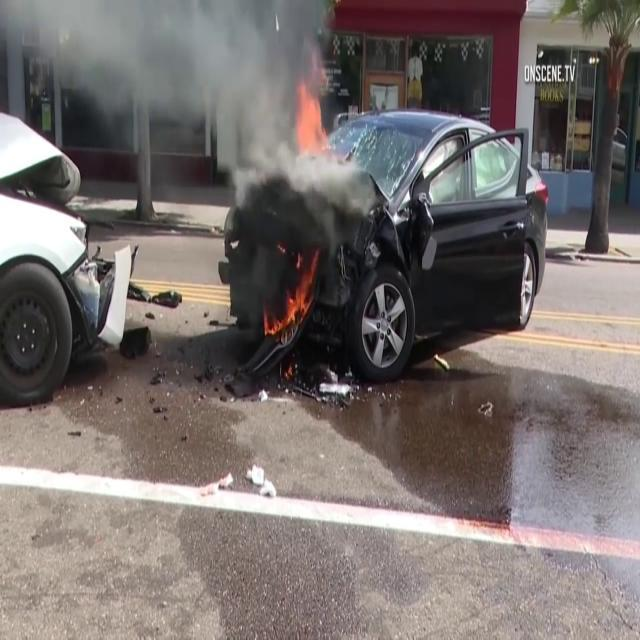Fire: (290, 84, 330, 160), (273, 272, 310, 332)
Smoke: (47, 0, 359, 208)
